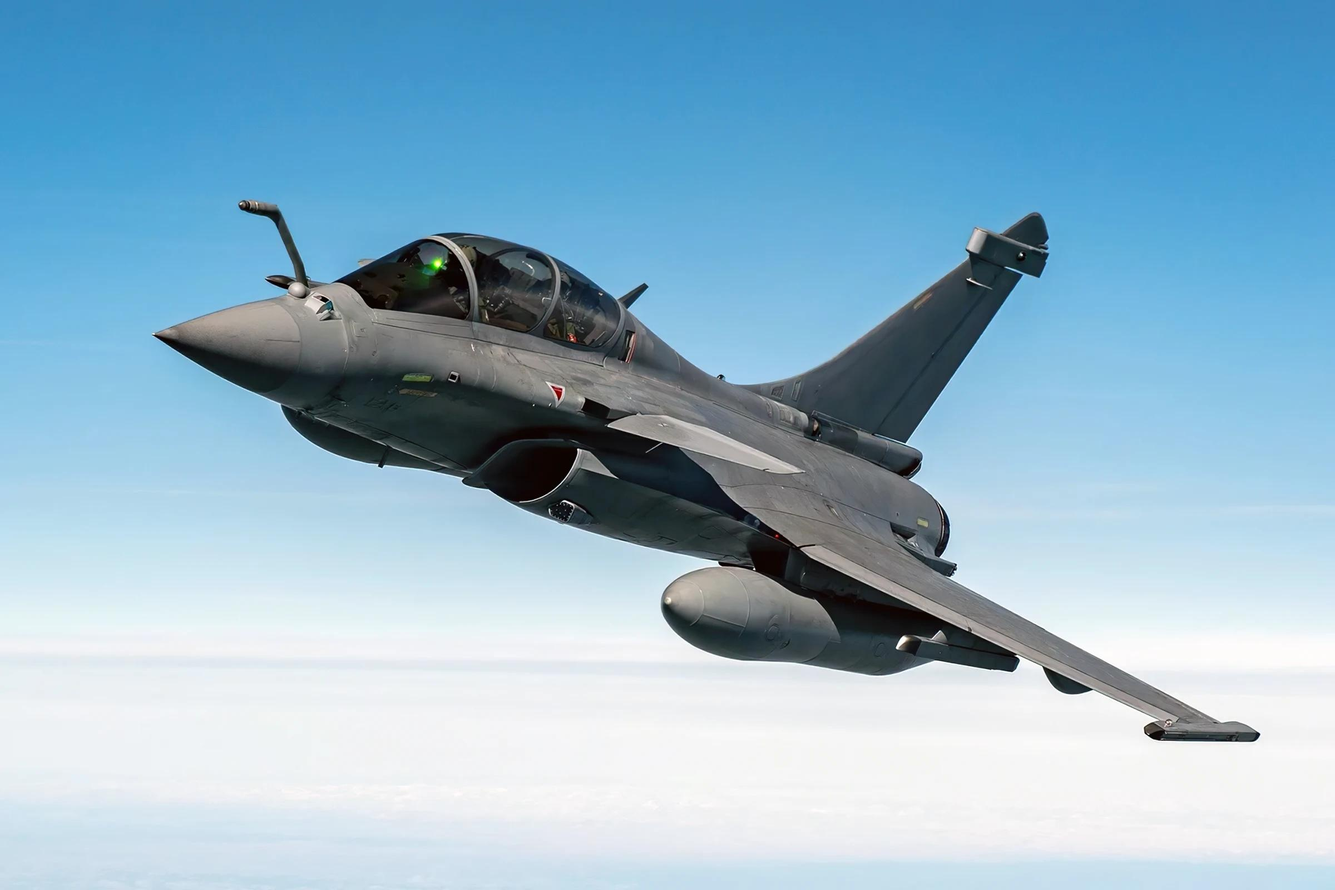aircraft: (138, 209, 1274, 758)
